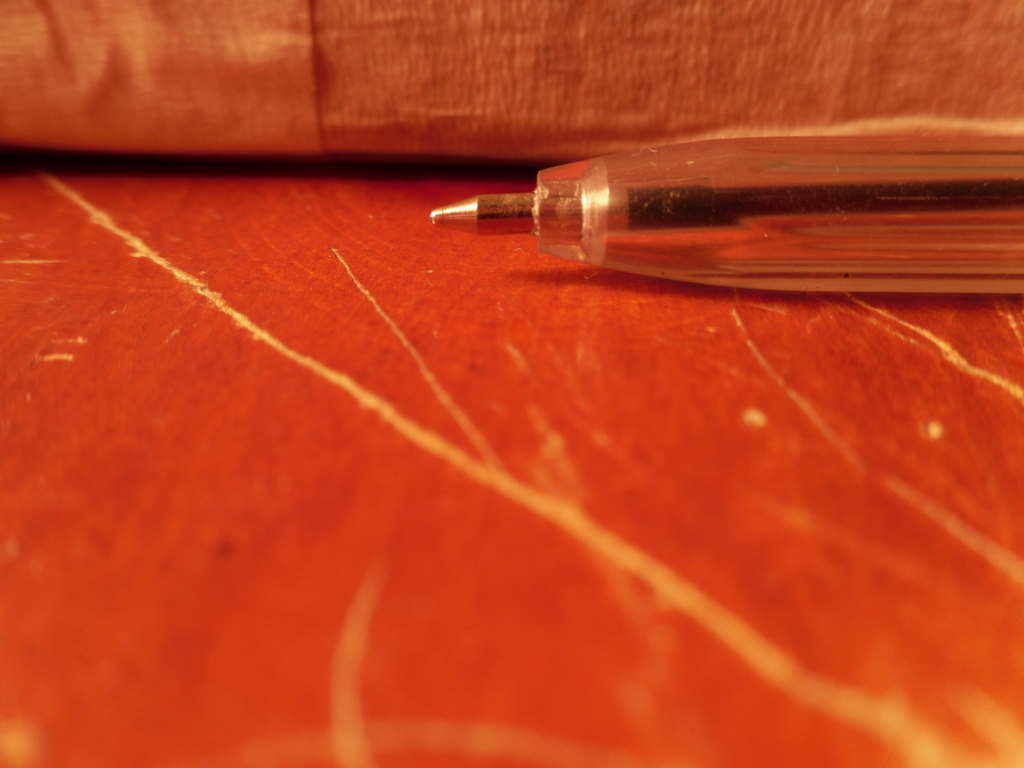Pen: (429, 136, 1021, 300)
